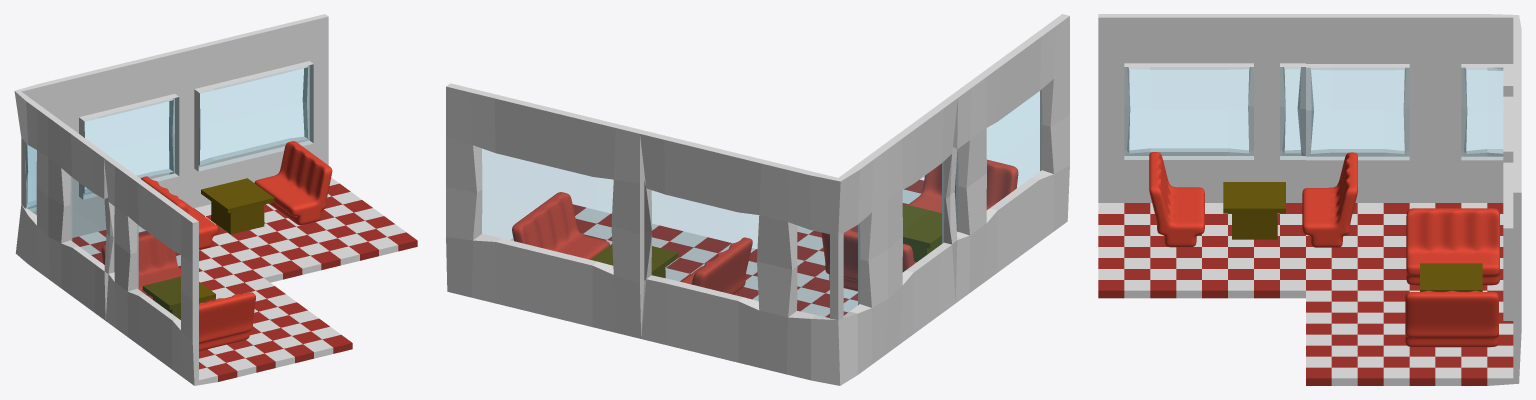
The model's file is diner_restaurant_scene_ar.glb.
The picture shows the model from 3 angles, left to right: view 1: azimuth 30°, elevation 25°; view 2: azimuth 150°, elevation 25°; view 3: azimuth 270°, elevation 25°; orthographic projection. The views are drawn at different scales.
Parts seen in each view (by area): view 1: Plane.001_2, Plane.007_8, Plane.006_7, Plane.002_3, Plane.004_5, Plane.003_4, Plane.005_6; view 2: Plane.001_2, Plane.007_8, Plane.005_6, Plane.002_3, Plane.003_4, Plane.004_5, Plane.006_7; view 3: Plane.001_2, Plane.005_6, Plane.007_8, Plane.002_3, Plane.004_5, Plane.003_4, Plane.006_7.
Part boxes in pixels (bbox=[...]): Plane.001_2: bbox=[14, 14, 417, 385]; Plane.007_8: bbox=[254, 141, 332, 225]; Plane.006_7: bbox=[201, 178, 274, 234]; Plane.002_3: bbox=[199, 292, 255, 351]; Plane.004_5: bbox=[101, 234, 180, 299]; Plane.003_4: bbox=[142, 276, 215, 319]; Plane.005_6: bbox=[141, 176, 218, 249]; Plane.001_2: bbox=[446, 14, 1069, 385]; Plane.007_8: bbox=[512, 192, 609, 259]; Plane.005_6: bbox=[681, 237, 752, 295]; Plane.002_3: bbox=[908, 159, 1018, 212]; Plane.003_4: bbox=[902, 204, 941, 262]; Plane.004_5: bbox=[821, 229, 916, 291]; Plane.006_7: bbox=[590, 244, 678, 278]; Plane.001_2: bbox=[1098, 14, 1521, 385]; Plane.005_6: bbox=[1406, 208, 1499, 285]; Plane.007_8: bbox=[1405, 290, 1498, 347]; Plane.002_3: bbox=[1149, 152, 1204, 247]; Plane.004_5: bbox=[1302, 152, 1357, 247]; Plane.003_4: bbox=[1223, 182, 1285, 239]; Plane.006_7: bbox=[1420, 263, 1482, 291].
Size of the model in its own units: 8.06 by 4.06 by 8.06.
